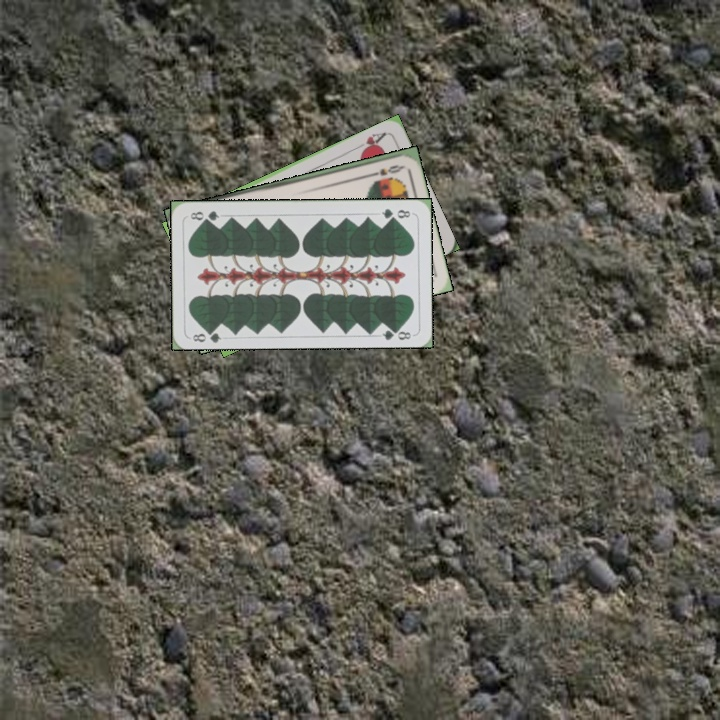G8: (189, 325, 224, 345), (378, 204, 413, 222)
HA: (352, 128, 389, 156)
SO: (365, 161, 405, 179)
